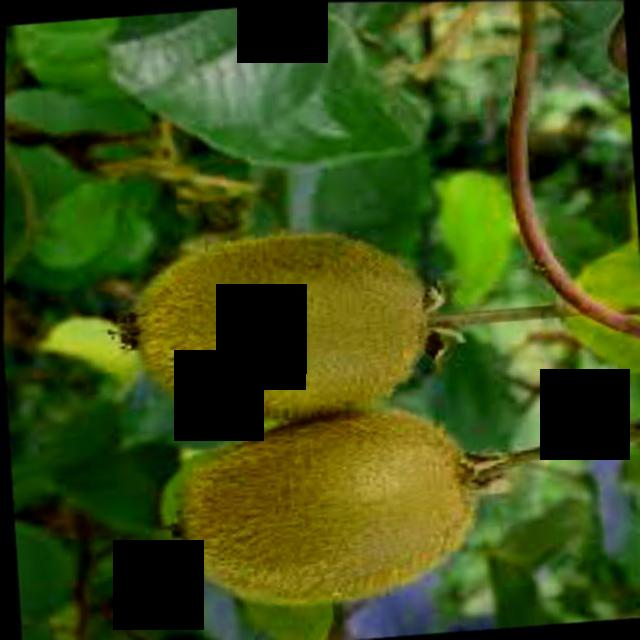kiwi: (105, 221, 453, 437), (164, 402, 490, 622)
